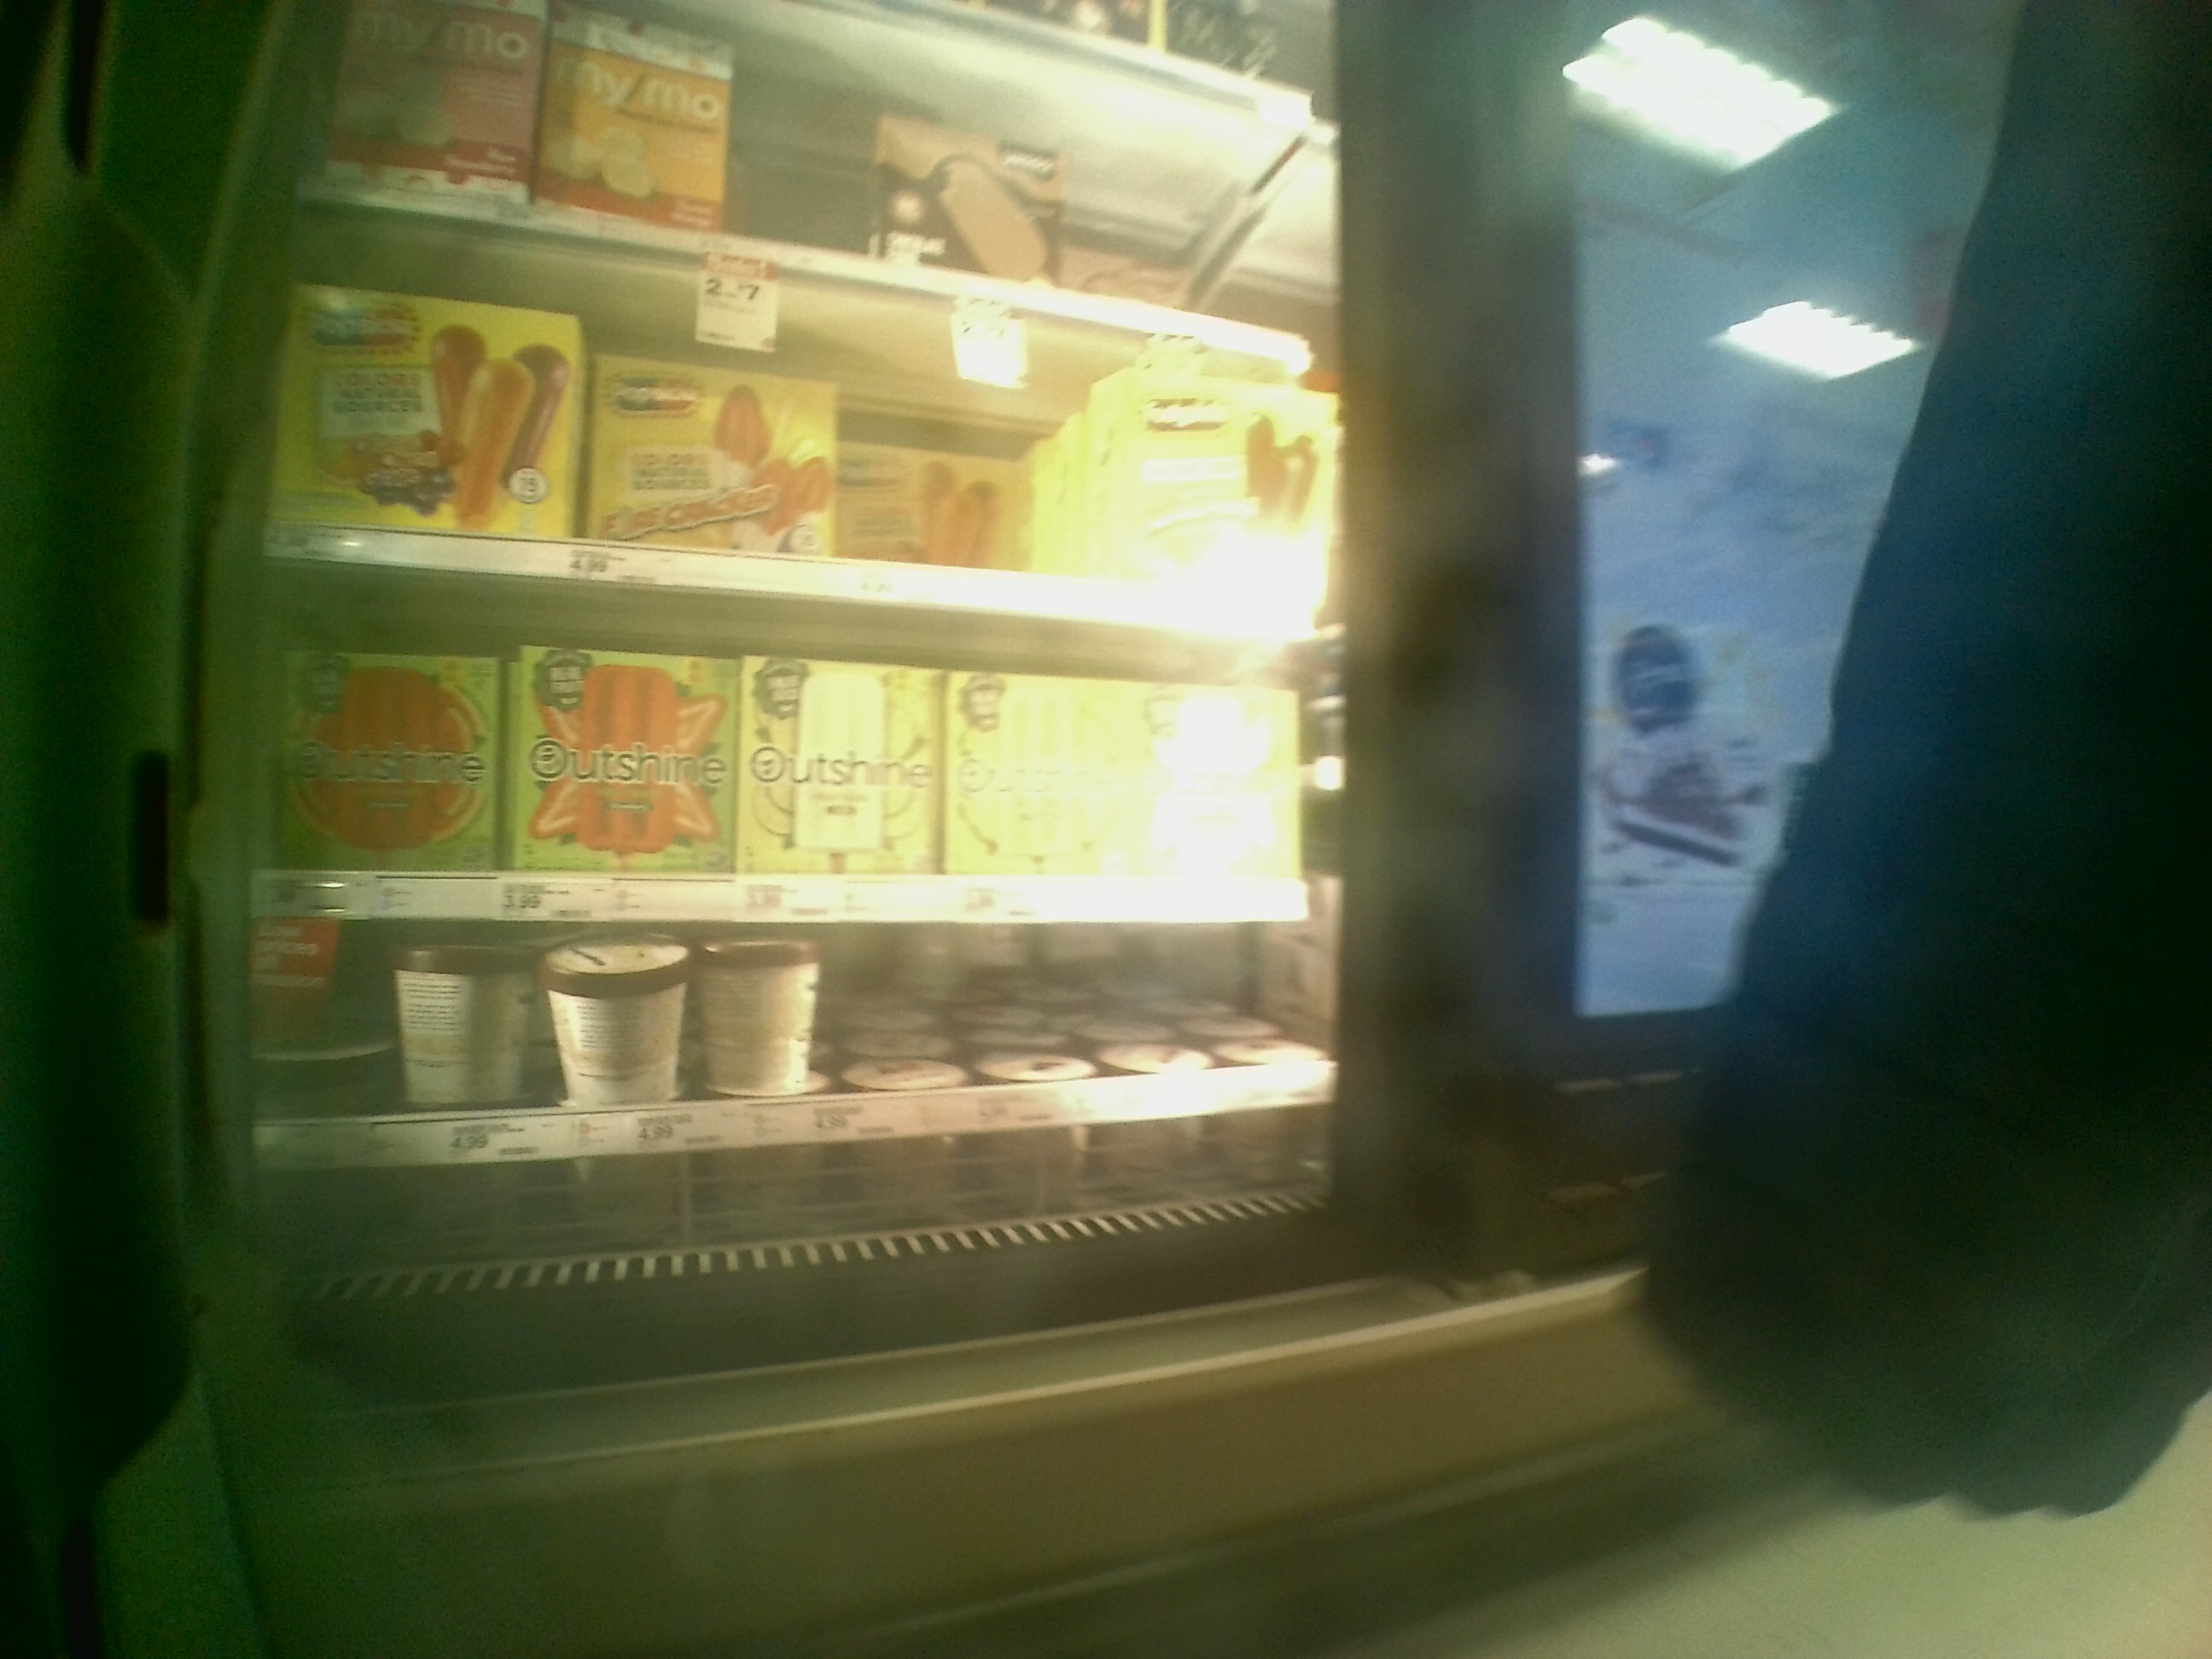ice-cream-shelf: (251, 568, 1313, 922)
